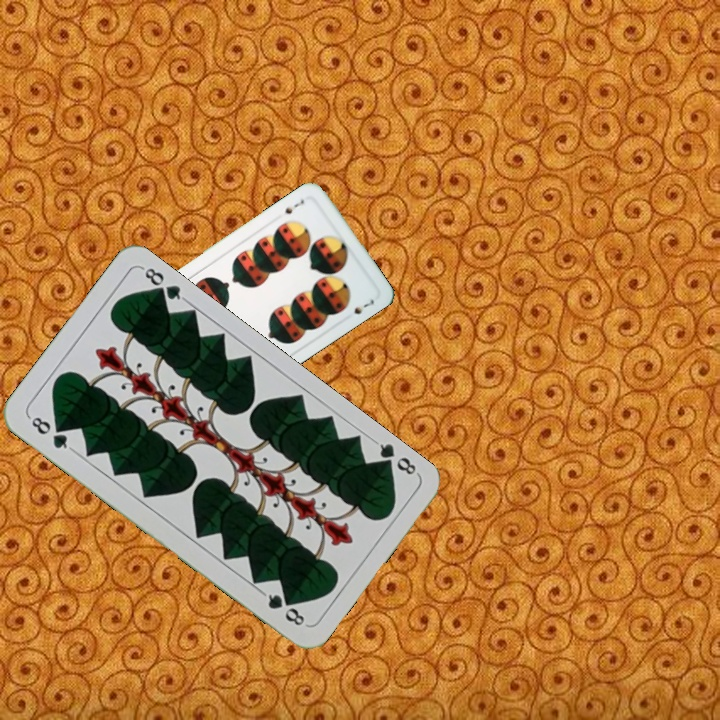G8: (370, 436, 421, 478), (25, 412, 75, 453)
S7: (279, 195, 307, 217)
